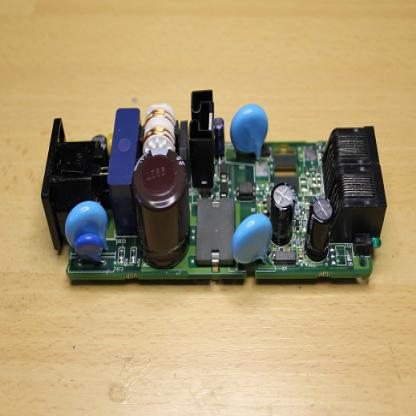Cap3: (304, 195, 335, 263), (269, 179, 298, 249)
Mov: (228, 92, 271, 170), (228, 204, 276, 272), (64, 202, 112, 257)
